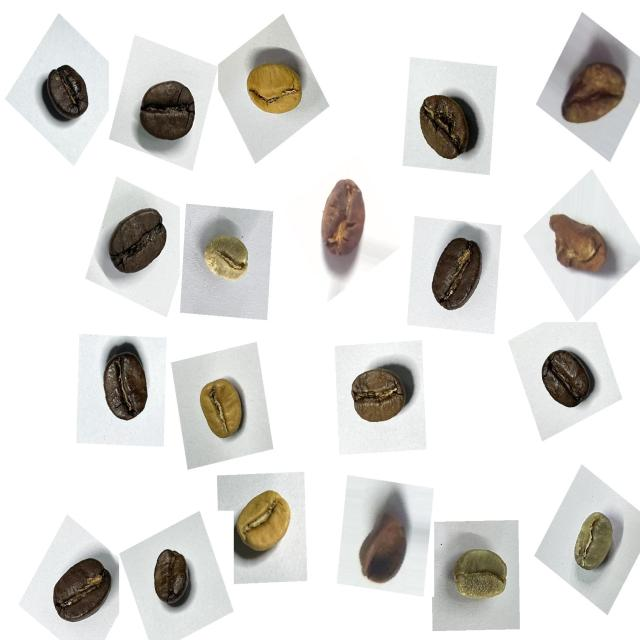bad: (552, 38, 632, 139), (346, 490, 416, 598), (312, 167, 378, 265), (540, 200, 617, 284)
dark: (97, 195, 179, 292), (417, 227, 490, 325), (42, 544, 119, 635), (133, 64, 207, 154), (93, 346, 163, 433), (532, 336, 602, 420), (36, 50, 100, 132), (145, 536, 205, 616)
green: (445, 532, 516, 619), (561, 500, 627, 584), (195, 220, 260, 296)
light: (234, 40, 314, 130), (228, 476, 302, 570), (186, 362, 255, 453)
medium: (342, 353, 422, 437), (410, 82, 486, 169)
